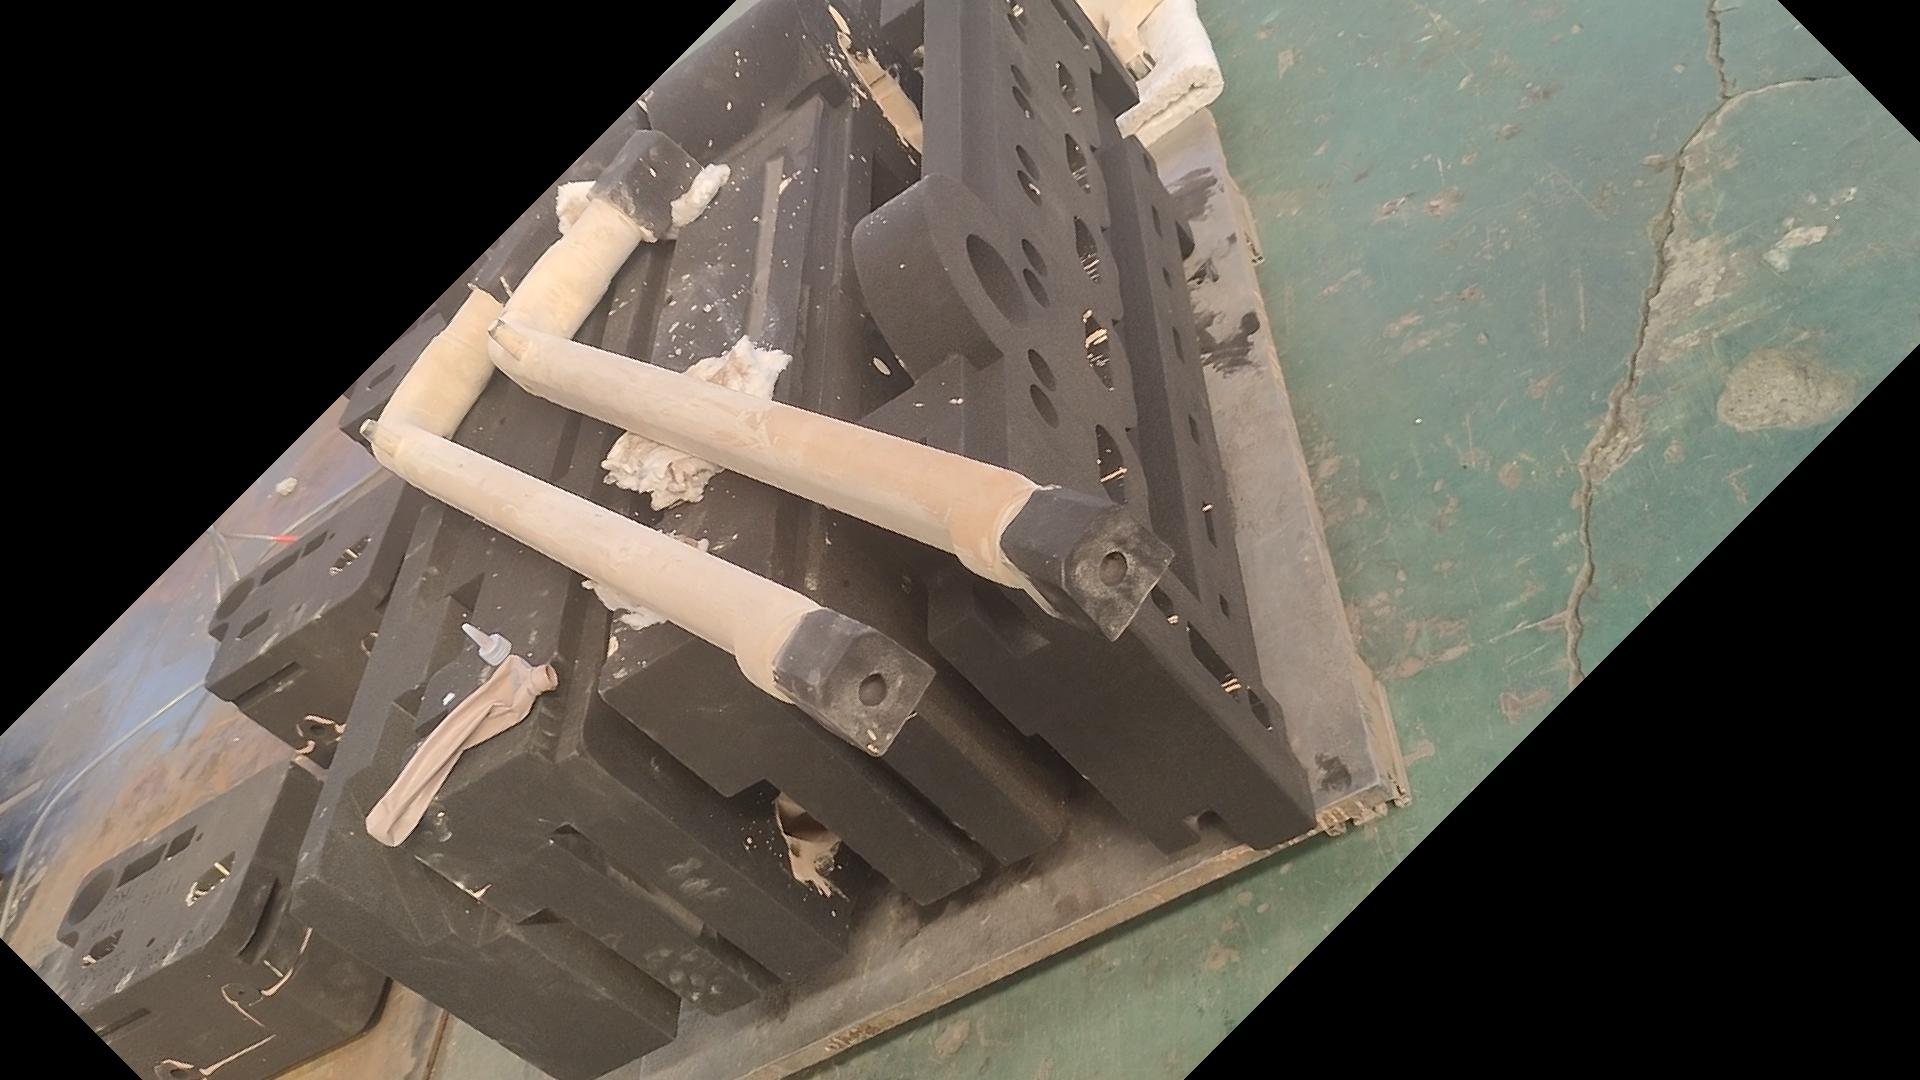pouring hole: (967, 231, 1031, 328), (65, 866, 113, 927), (215, 578, 255, 618)
